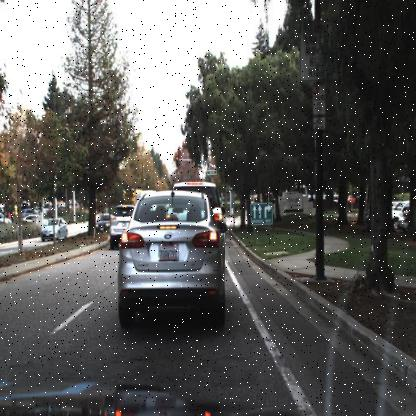car: (118, 188, 223, 337), (110, 205, 134, 249), (39, 216, 68, 242), (40, 217, 67, 242), (208, 184, 219, 224), (96, 212, 110, 234)
trafficLight: (175, 156, 179, 167)
